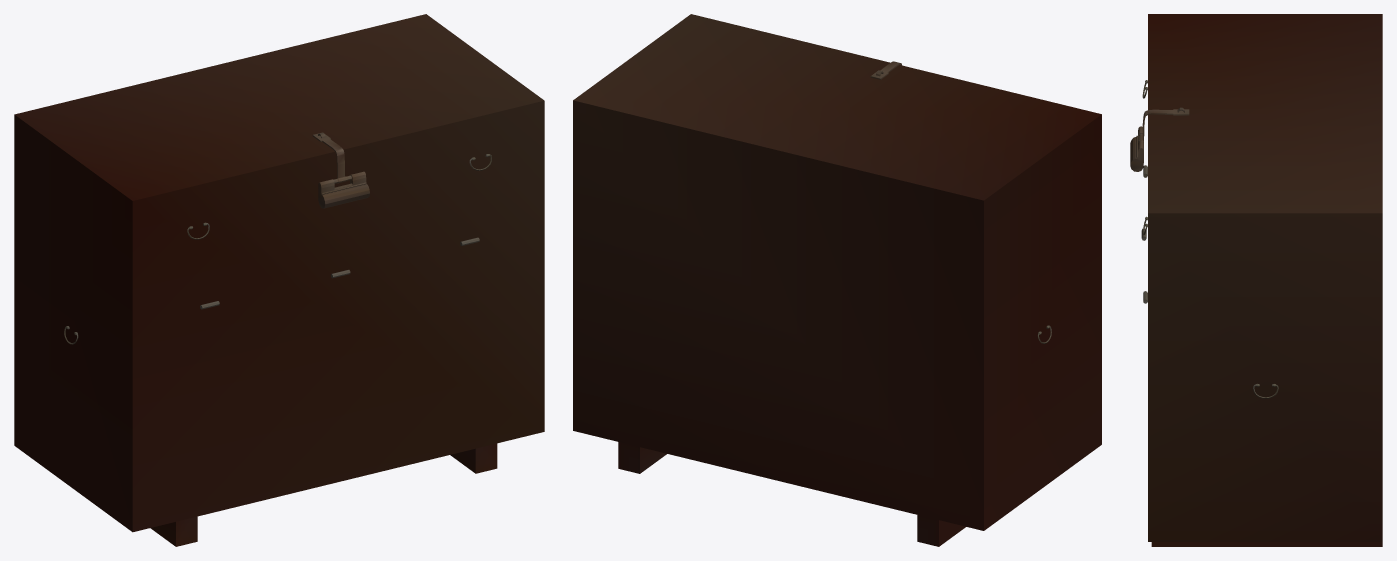
Rendered from cabinet_faf4980a.glb.
3 views of the same model, side by side, from view 1: azimuth 30°, elevation 25°; view 2: azimuth 150°, elevation 25°; view 3: azimuth 270°, elevation 25° (orthographic).
Parts seen in each view (by area): view 1: SM_Cabinet01b_M_Cabinet01b_0; view 2: SM_Cabinet01b_M_Cabinet01b_0; view 3: SM_Cabinet01b_M_Cabinet01b_0.
Boxes of the visible parts, left/top/right/bottom form: SM_Cabinet01b_M_Cabinet01b_0: left=14, top=14, right=544, bottom=546; SM_Cabinet01b_M_Cabinet01b_0: left=573, top=14, right=1101, bottom=546; SM_Cabinet01b_M_Cabinet01b_0: left=1130, top=14, right=1382, bottom=546.
Size of the model in its own units: 1.3 by 1.07 by 0.6779.
